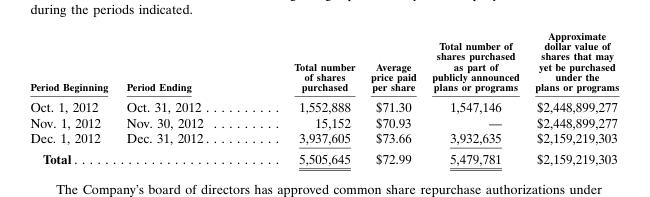table: (29, 29, 618, 166)
table column: (116, 29, 250, 166), (250, 29, 362, 166), (423, 29, 526, 166), (526, 29, 618, 166), (29, 29, 116, 166), (362, 29, 423, 166)
table column header: (29, 29, 618, 95)
table row: (29, 29, 618, 95), (29, 95, 618, 114), (29, 147, 618, 166), (29, 129, 618, 147), (29, 114, 618, 129)
table spanning cell: (29, 147, 250, 166)
